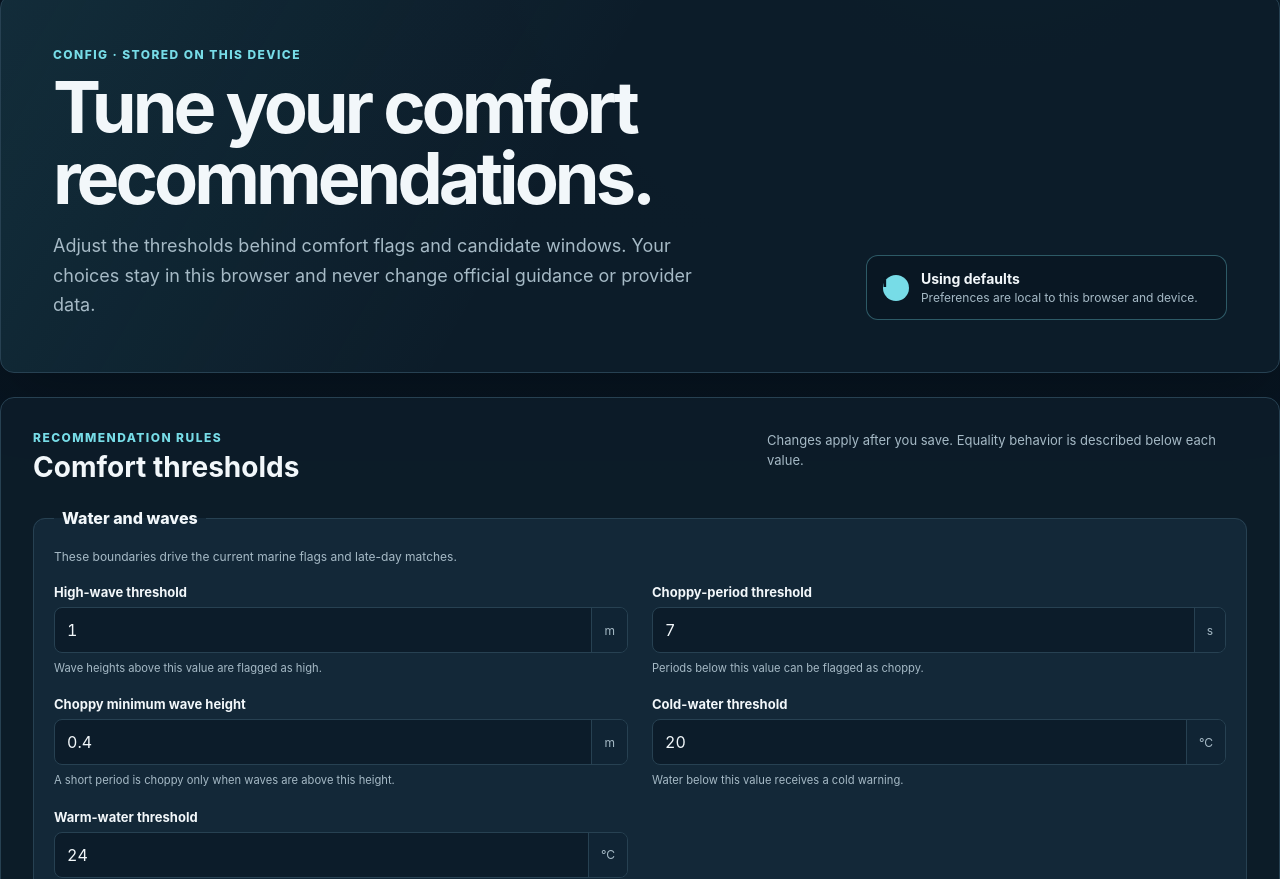
Scenario: ConfigPage › rejects conflicting thresholds before writing storage
The image size is (1280, 879).
Step 1. Replace the text in the number field labelled "Cold-water threshold" with "25" → (919, 742), box x1=653 y1=720 x2=1186 y2=764
(page scrolled)
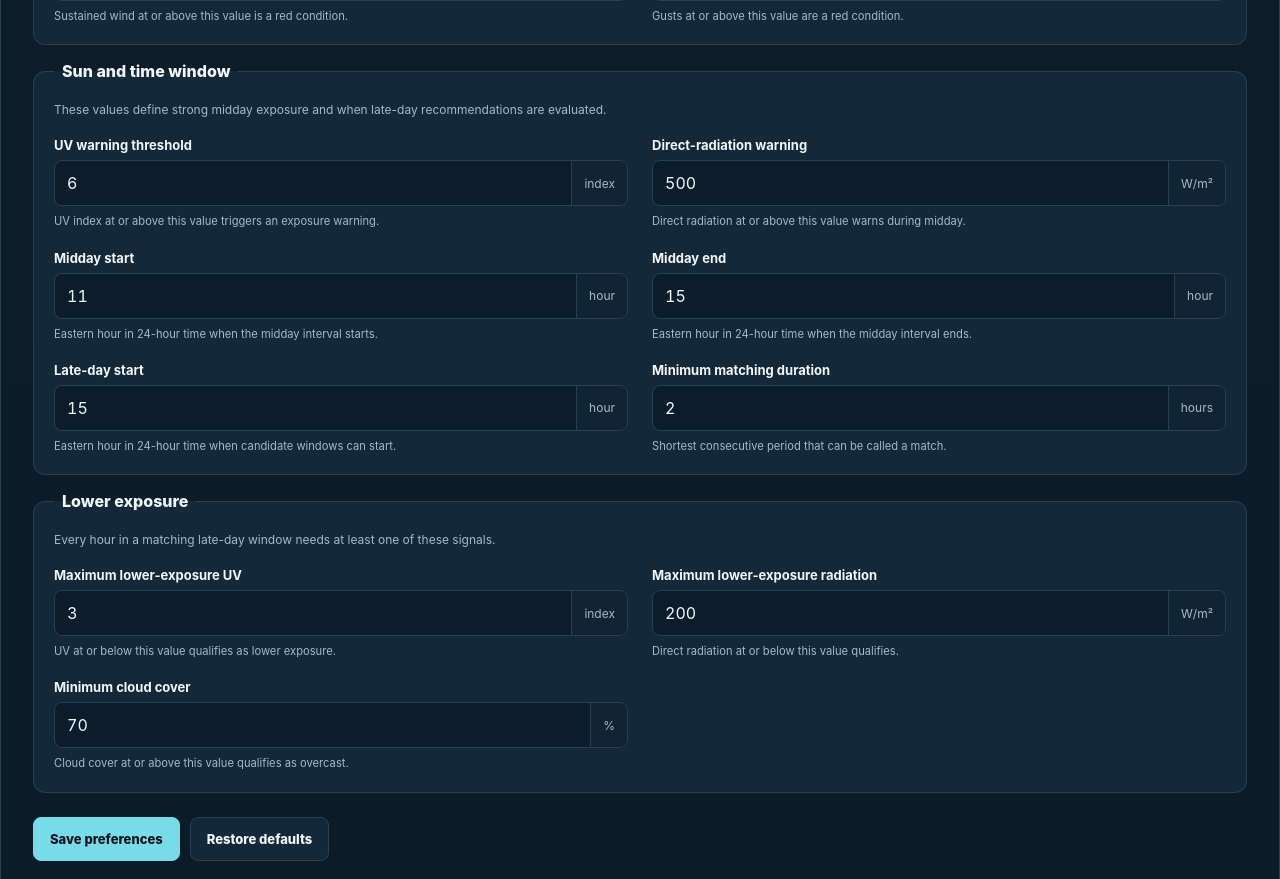
Step 2. Click the button "Save preferences" → (106, 838), box x1=33 y1=816 x2=180 y2=860
(page scrolled)
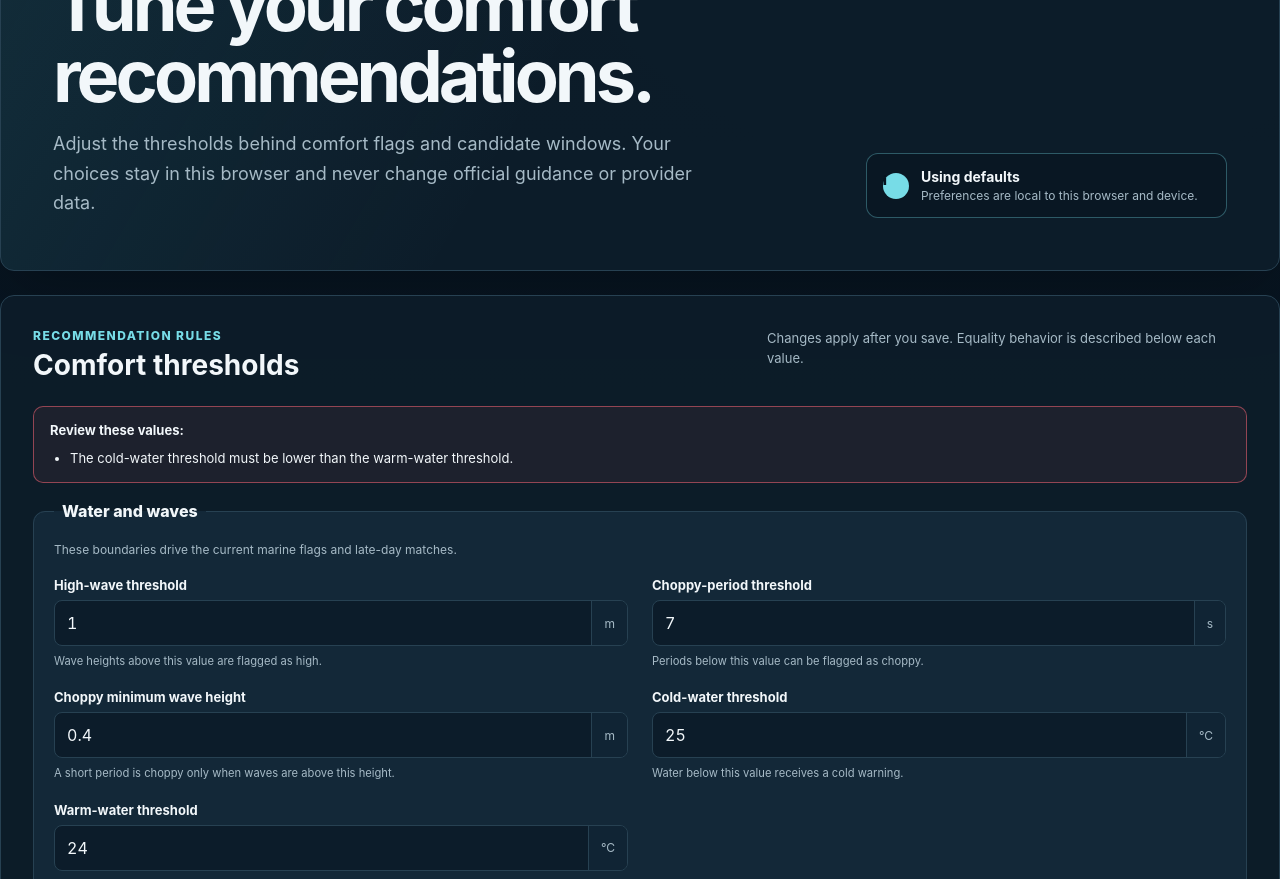
Check: the message shows "cold-water threshold must be lower", box x1=70 y1=450 x2=513 y2=466
